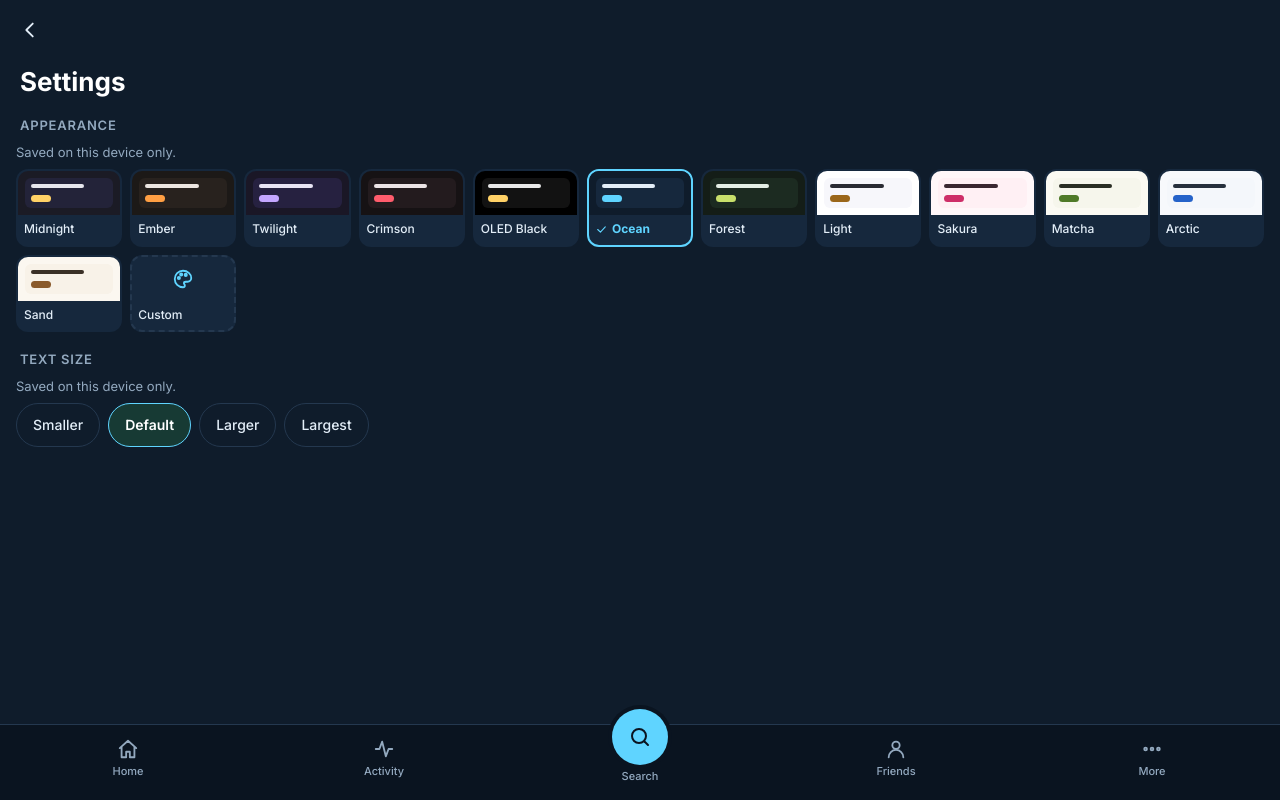
Test: Settings: theme picker › picking Custom again keeps the colours saved before
Click the radio button labelled "Custom" at (183, 294), box x1=130 y1=255 x2=236 y2=332
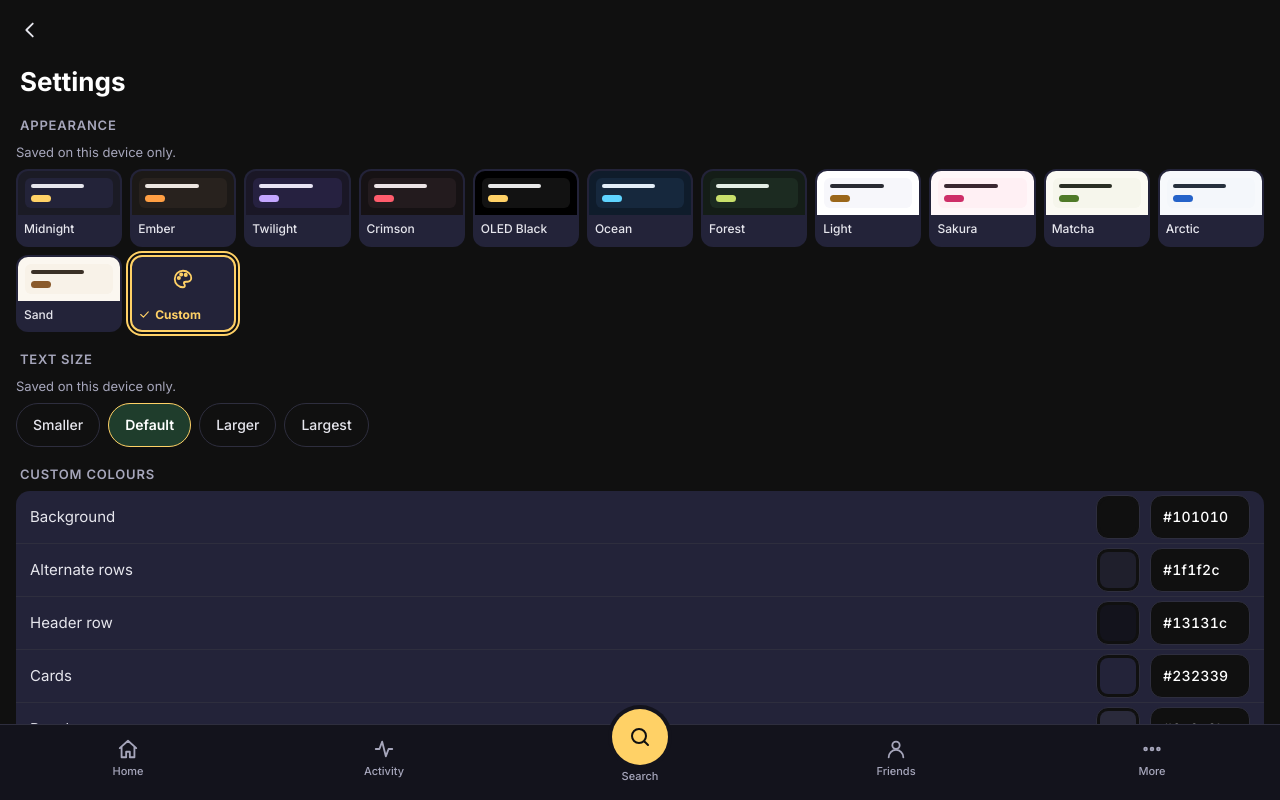
Expected: the field named "Background hex" holds "#101010", x1=1150 y1=495 x2=1250 y2=539
